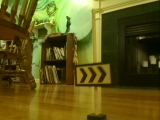right: (75, 64, 112, 86)
